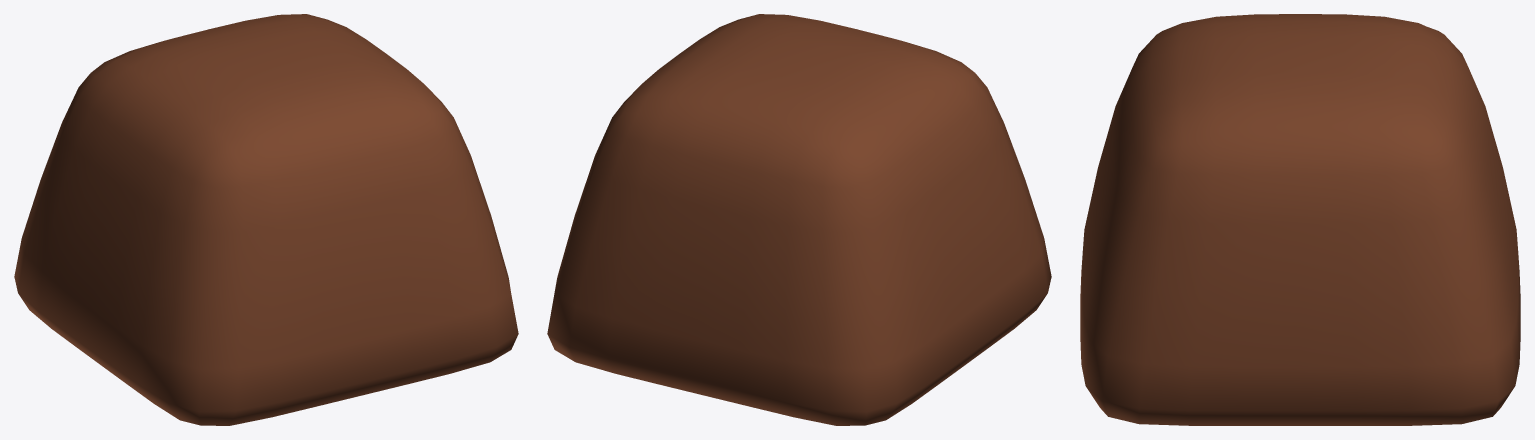
File: Toffee_02.fbx
The picture shows the model from 3 angles, left to right: view 1: azimuth 30°, elevation 25°; view 2: azimuth 150°, elevation 25°; view 3: azimuth 270°, elevation 25°; orthographic projection. The views are drawn at different scales.
Visible parts, largest first — view 1: Toffee_02_LOD0; view 2: Toffee_02_LOD0; view 3: Toffee_02_LOD0.
Boxes of the visible parts, <box> form: Toffee_02_LOD0: <box>14,14,518,425</box>; Toffee_02_LOD0: <box>547,14,1051,425</box>; Toffee_02_LOD0: <box>1080,14,1520,425</box>.
Size of what is drawn, in the model's own units: 462 by 342 by 462.
